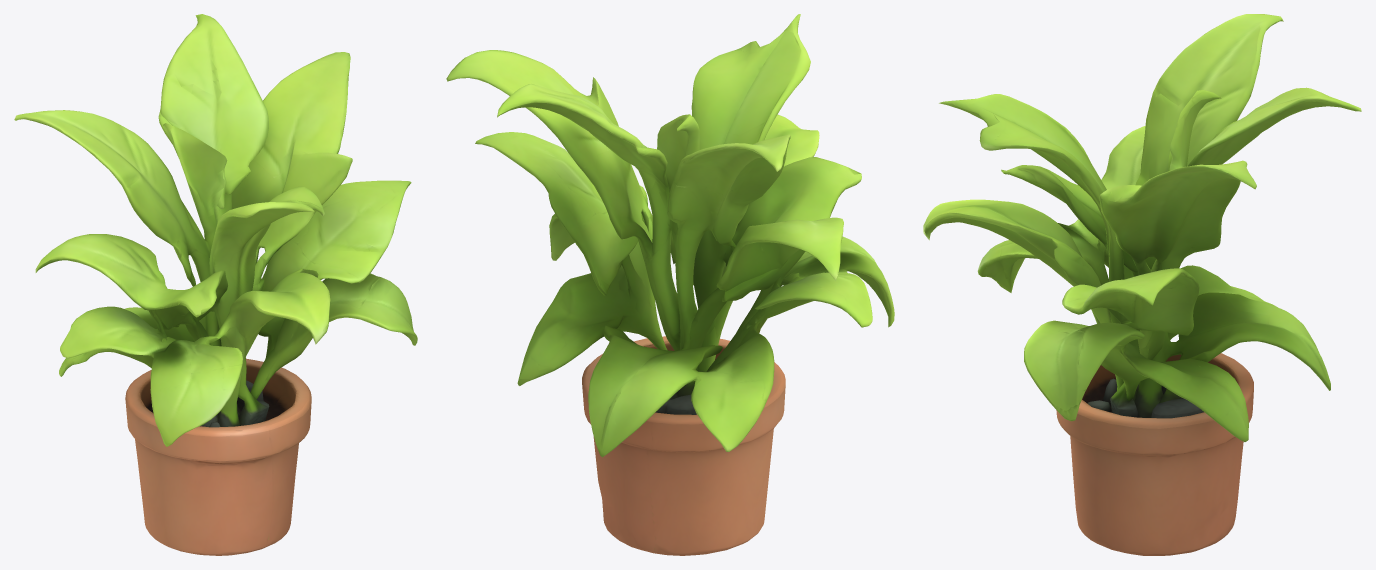
File: plant_tall.glb
3 renders of one model, left to right at view 1: azimuth 30°, elevation 25°; view 2: azimuth 150°, elevation 25°; view 3: azimuth 270°, elevation 25°, orthographic. The views are drawn at different scales.
Parts seen in each view (by area): view 1: model; view 2: model; view 3: model.
Part boxes in pixels (bbox=[...]): model: bbox=[14, 14, 417, 555]; model: bbox=[446, 14, 894, 555]; model: bbox=[923, 14, 1361, 555].
Bounding box in the file's own units: 1.61 × 1.9 × 1.61.
Materials: 1 (1 with a texture image).
